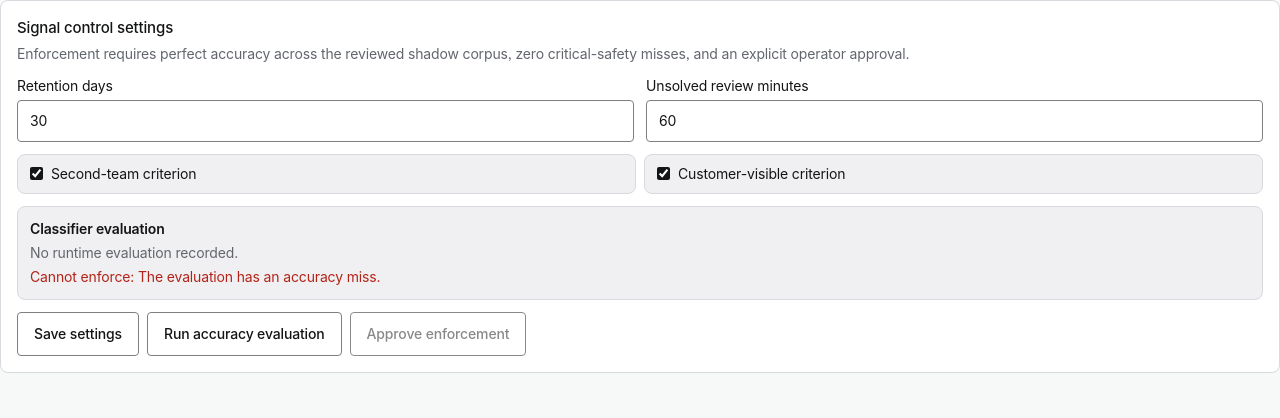
SignalControls › surfaces failed actions and restores controls for retry
Click the button "Run accuracy evaluation" at x=244, y=334, box [147, 312, 342, 356]
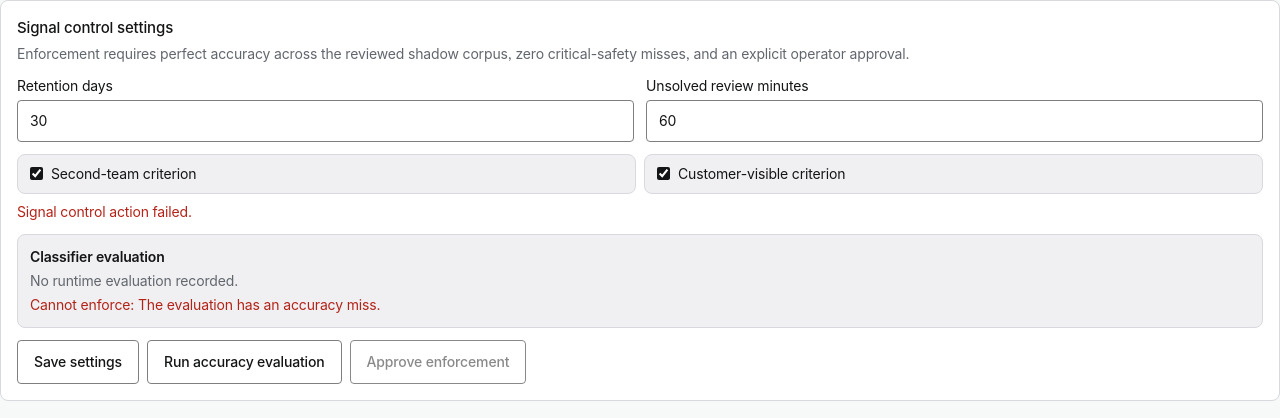
Expected: the button "Run accuracy evaluation" is enabled, [147, 340, 342, 384]
Expected: the text "Signal control action failed." is shown, [17, 202, 192, 220]
